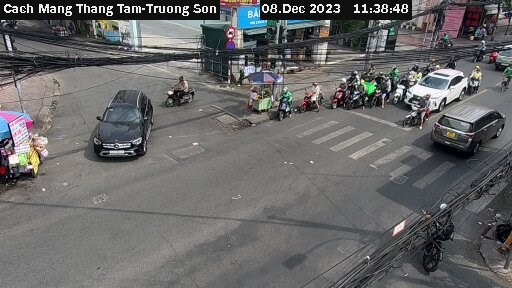car: (88, 87, 161, 157), (432, 100, 504, 156), (403, 68, 467, 114), (492, 38, 512, 70)
motorbike: (162, 75, 208, 108), (267, 89, 299, 124), (299, 81, 327, 114), (402, 94, 429, 127), (463, 62, 488, 93), (328, 79, 351, 111), (349, 83, 370, 110), (372, 81, 394, 106), (469, 42, 491, 67), (390, 76, 407, 100)
